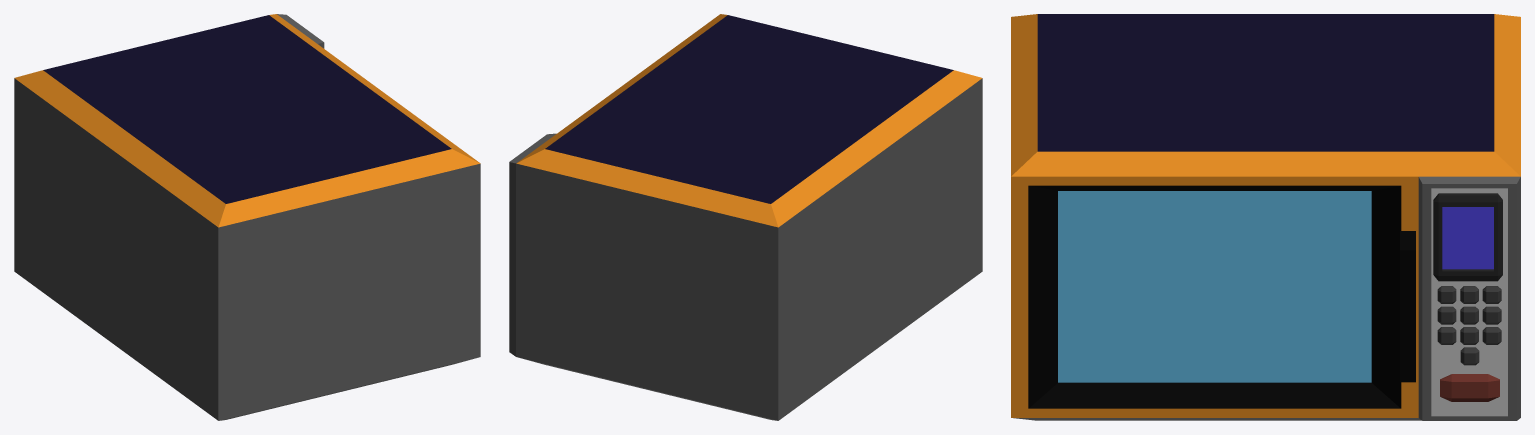
Rendered from Microwave.glb.
3 renders of one model, left to right at view 1: azimuth 30°, elevation 25°; view 2: azimuth 150°, elevation 25°; view 3: azimuth 270°, elevation 25°, orthographic. The views are drawn at different scales.
Parts seen in each view (by area): view 1: Microwave; view 2: Microwave; view 3: Microwave, ControlScreen, Button, Handle, Button.002.
Boxes of the visible parts, x1,y1,x2,y2 form: Microwave: (14,14,480,420); Microwave: (509,14,982,420); Microwave: (1011,14,1520,420); ControlScreen: (1433,193,1502,281); Button: (1437,286,1501,344); Handle: (1400,231,1415,382); Button.002: (1440,374,1499,401).
Size of the model in its own units: 2.94 by 2.06 by 3.54.
